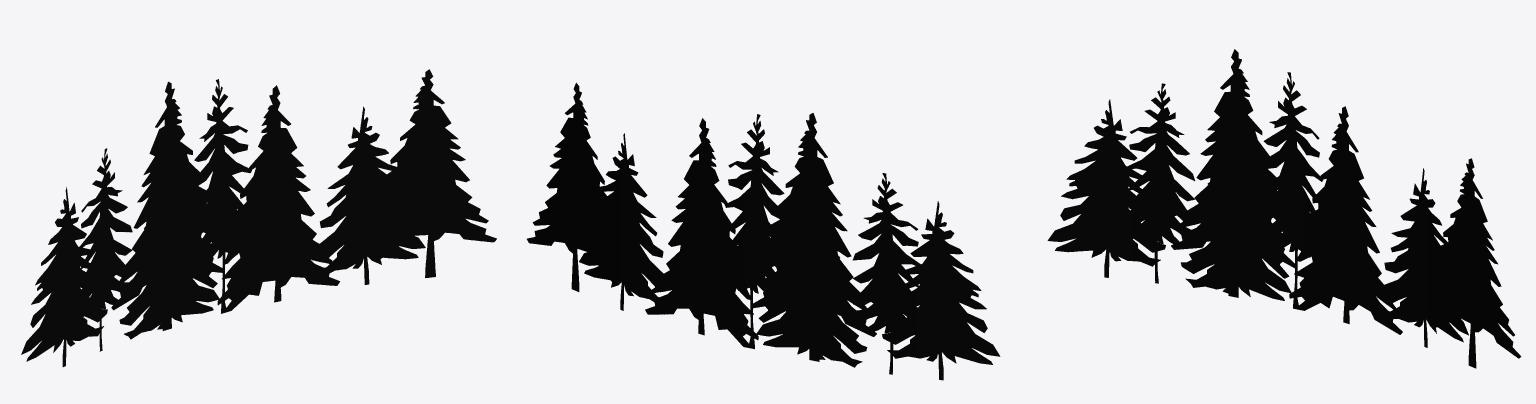
The model's file is SM_Env_Background_Card_01.fbx.
The picture shows the model from 3 angles, left to right: view 1: azimuth 30°, elevation 25°; view 2: azimuth 150°, elevation 25°; view 3: azimuth 330°, elevation 25°; orthographic projection.
Parts seen in each view (by area): view 1: SM_Env_Background_Card_01; view 2: SM_Env_Background_Card_01; view 3: SM_Env_Background_Card_01.
Boxes of the visible parts, box(x1,y1,x2,y2) form: SM_Env_Background_Card_01: box(21, 69, 496, 367); SM_Env_Background_Card_01: box(527, 82, 1000, 380); SM_Env_Background_Card_01: box(1047, 49, 1521, 368).
Size of the model in its own units: 955 by 487 by 84.16.
